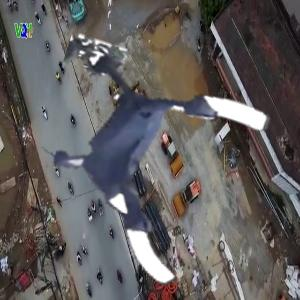drone: (35, 59, 254, 278)
